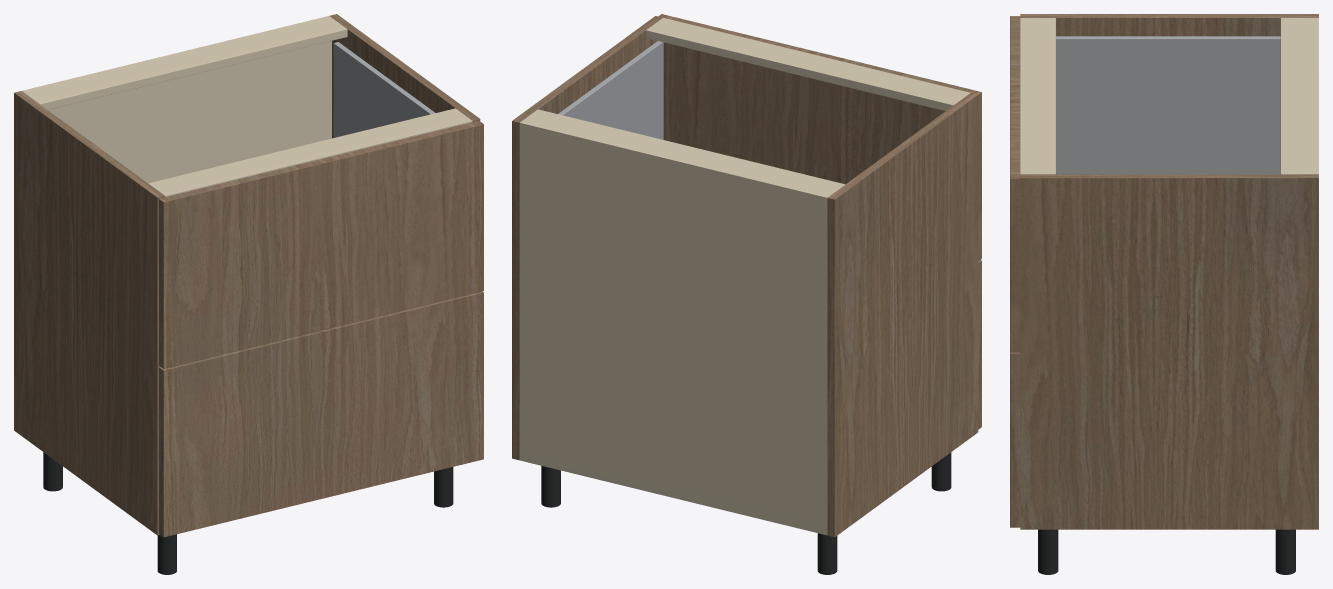
The model's file is oppein-ply-mnw-2db30.glb.
3 renders of one model, left to right at view 1: azimuth 30°, elevation 25°; view 2: azimuth 150°, elevation 25°; view 3: azimuth 270°, elevation 25°, orthographic. The views are drawn at different scales.
Visible parts, largest first — view 1: Drawer front.001, Drawer front, Cabinet side, Cabinet back, Top support rail, Top support rail.001, Drawer side.003, Cabinet side.001, Adjustable foot.001, Adjustable foot.003, Adjustable foot; view 2: Cabinet back, Cabinet side, Drawer front.001, Top support rail.001, Cabinet side.001, Drawer side.003, Top support rail, Cabinet bottom, Adjustable foot, Adjustable foot.002, Drawer front, Adjustable foot.001; view 3: Cabinet side.001, Drawer side.002, Top support rail.001, Cabinet side, Top support rail, Drawer front.001, Drawer front, Adjustable foot.003, Adjustable foot.002, Cabinet back.
Boxes of the visible parts, x1=… form: Drawer front.001: x1=159, y1=120, x2=483, y2=368; Drawer front: x1=159, y1=291, x2=483, y2=537; Cabinet side: x1=14, y1=91, x2=164, y2=535; Cabinet back: x1=22, y1=16, x2=331, y2=183; Top support rail: x1=23, y1=17, x2=347, y2=109; Top support rail.001: x1=148, y1=108, x2=472, y2=197; Drawer side.003: x1=333, y1=42, x2=435, y2=137; Cabinet side.001: x1=329, y1=14, x2=480, y2=138; Adjustable foot.001: x1=157, y1=534, x2=176, y2=574; Adjustable foot.003: x1=434, y1=467, x2=453, y2=507; Adjustable foot: x1=43, y1=452, x2=62, y2=491; Cabinet back: x1=519, y1=120, x2=829, y2=534; Cabinet side: x1=827, y1=93, x2=978, y2=537; Drawer front.001: x1=658, y1=14, x2=981, y2=260; Top support rail.001: x1=646, y1=18, x2=970, y2=110; Cabinet side.001: x1=512, y1=16, x2=662, y2=460; Drawer side.003: x1=558, y1=41, x2=663, y2=139; Top support rail: x1=523, y1=109, x2=844, y2=195; Cabinet bottom: x1=520, y1=453, x2=826, y2=535; Adjustable foot: x1=817, y1=533, x2=837, y2=574; Adjustable foot.002: x1=541, y1=466, x2=560, y2=507; Drawer front: x1=978, y1=260, x2=981, y2=429; Adjustable foot.001: x1=931, y1=452, x2=951, y2=491; Cabinet side.001: x1=1020, y1=174, x2=1318, y2=529; Drawer side.002: x1=1056, y1=36, x2=1280, y2=174; Top support rail.001: x1=1020, y1=18, x2=1055, y2=174; Cabinet side: x1=1020, y1=14, x2=1318, y2=36; Top support rail: x1=1280, y1=18, x2=1315, y2=174; Drawer front.001: x1=1010, y1=16, x2=1020, y2=352; Drawer front: x1=1010, y1=352, x2=1020, y2=527; Adjustable foot.003: x1=1038, y1=529, x2=1058, y2=574; Adjustable foot.002: x1=1275, y1=529, x2=1295, y2=574; Cabinet back: x1=1313, y1=18, x2=1318, y2=174.
Bounding box in the file's own units: 0.762 × 0.8763 × 0.6064.
4 materials, 1 textured.
